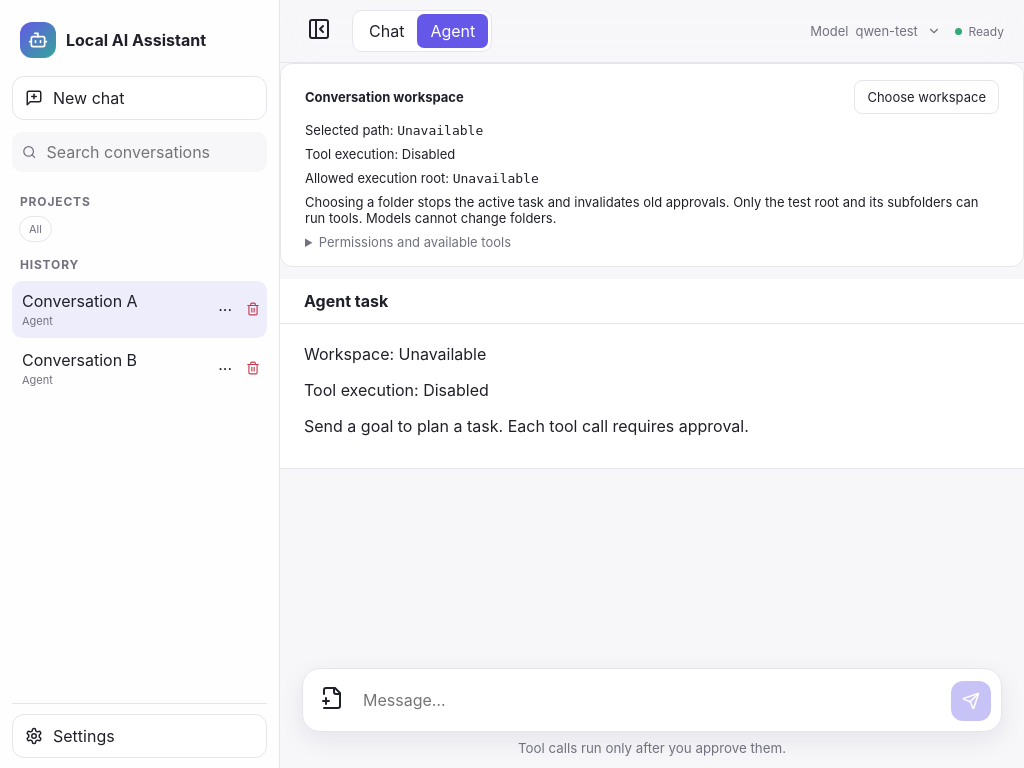
Scenario: modern desktop › shows persisted scope for the selected conversation and ignores a late workspace response
The image size is (1024, 768).
What coordinates should you click on to do the following:
click the button "Conversation B Agent"
I would click on:
 (112, 368)
Its box is [12,340,211,397].
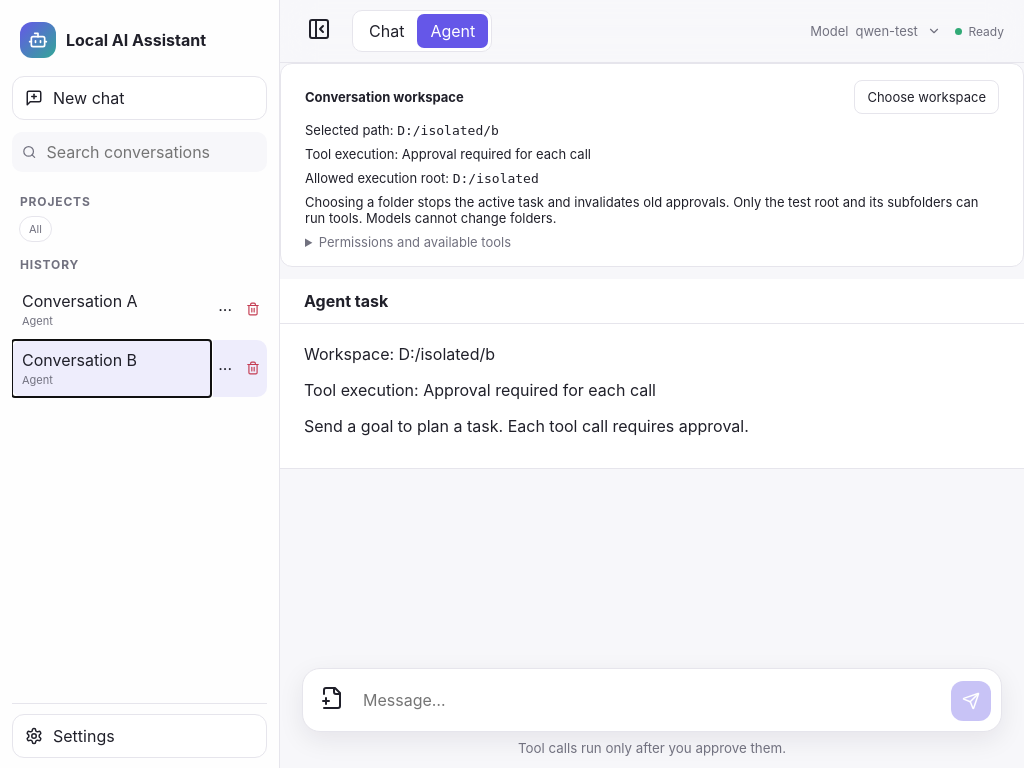
Check: the text "D:/isolated/b" is shown, box [397,123,499,138]
